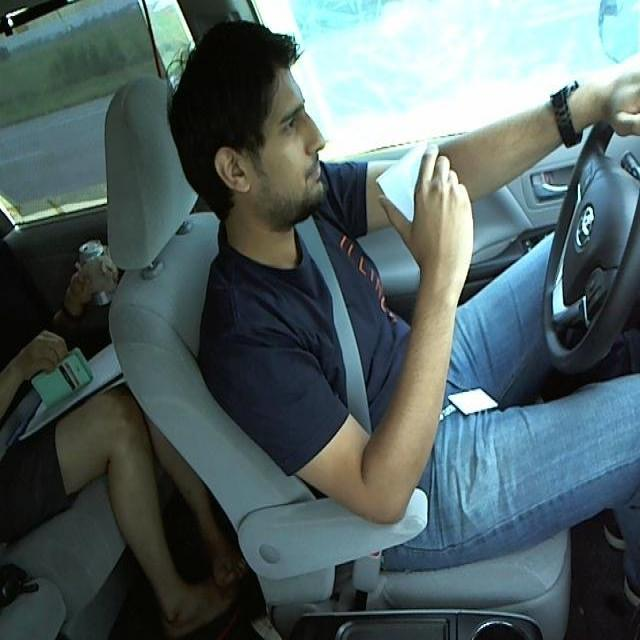drinking: (374, 134, 468, 250)
